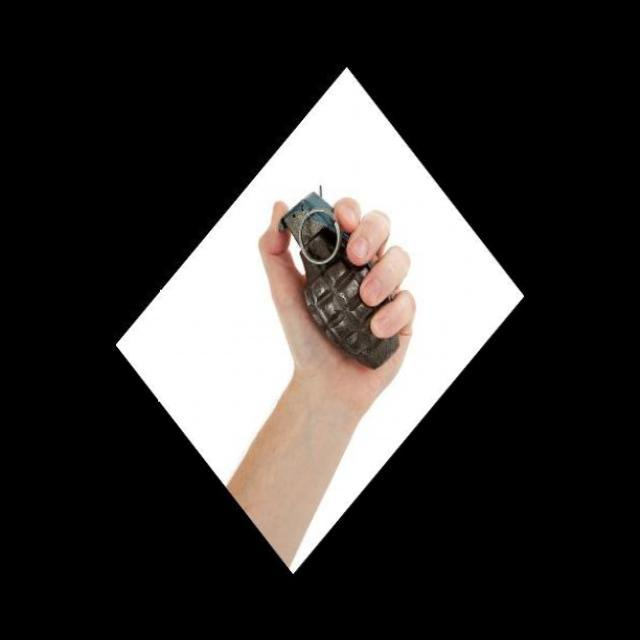grenade: (276, 180, 406, 380)
